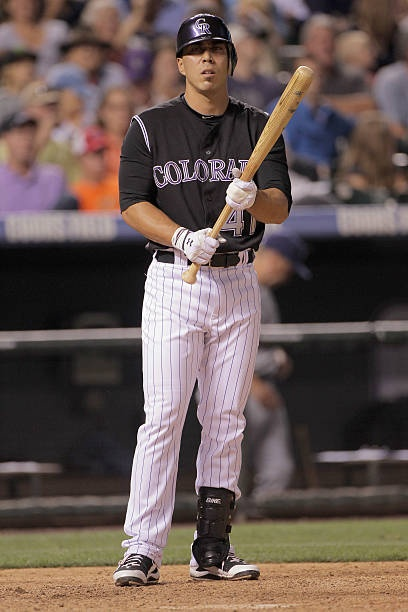bita: (182, 69, 310, 279)
